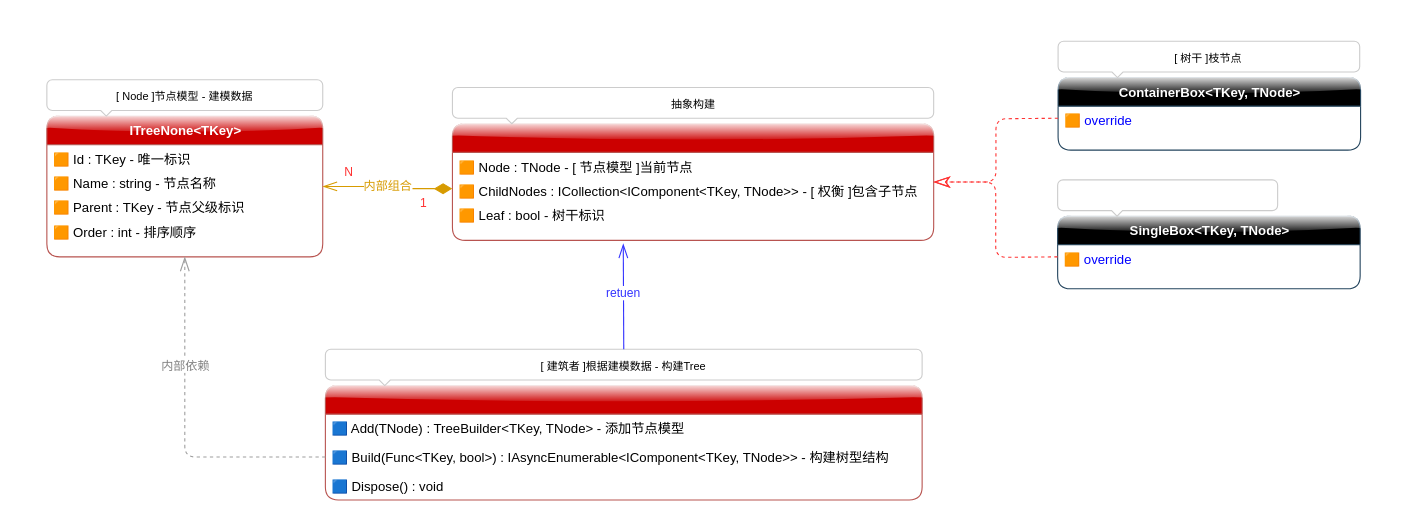
The diagram is 1408 pixels wide and 521 high, and some of its shapes have lost their labels. The shapes that lost their labels are listed below. From the top down, each one's box as (x1, y1, x2, y2) in pixels, then its label:
(451, 123, 934, 240): IComponent<TKey, TNode>
(1057, 179, 1278, 216): [ 树干 ]叶子节点
(324, 384, 922, 500): TreeBuilder<TKey, TNode>
